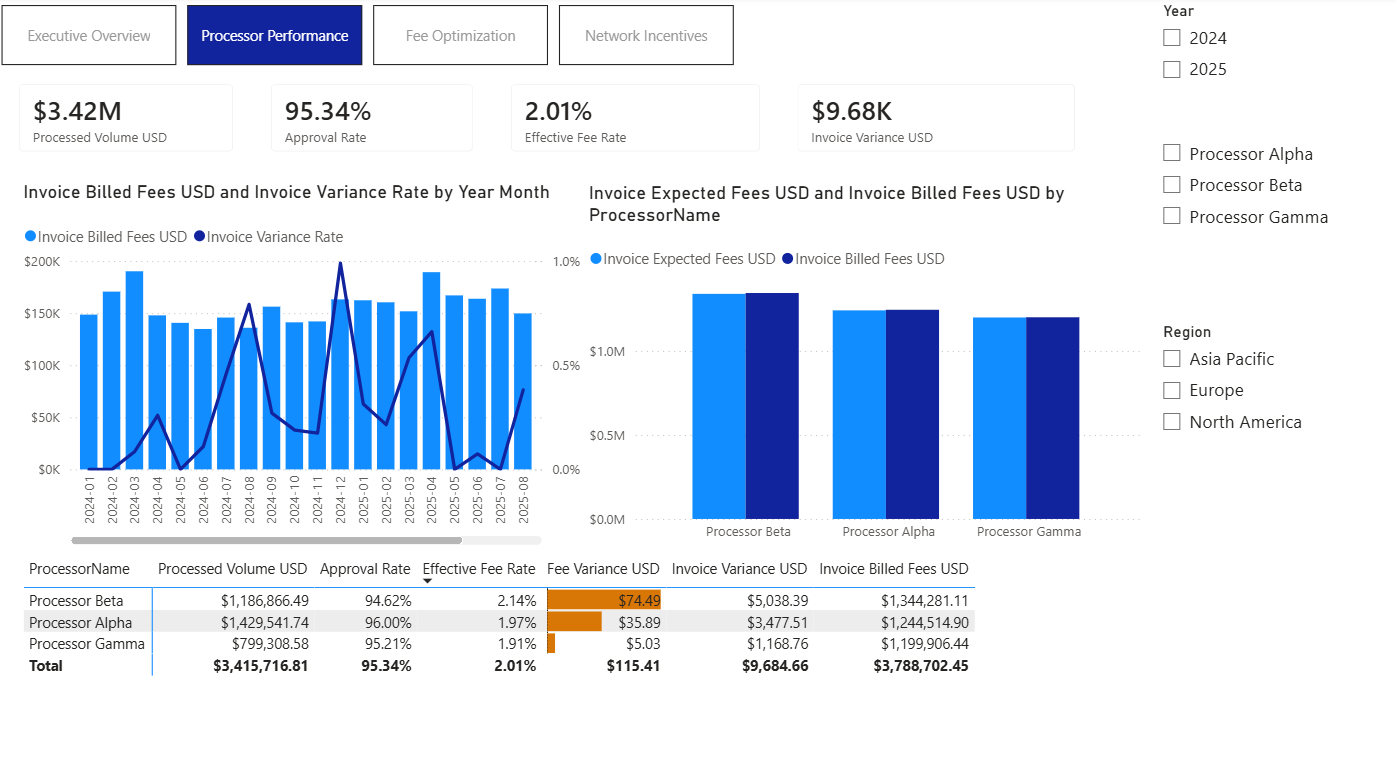

Layout of this report page (visuals, bound fields, positions):
{"tool":"powerbi","page":{"name":"Processor Performance","canvas":[1280,720],"ordinal":1},"visuals":[{"type":"slicer","fields":{"Values":["DimProcessor.ProcessorName"]},"box":[1051.4,105.1,228.6,189],"z":0},{"type":"slicer","fields":{"Values":["DimMarket.Region"]},"box":[1051.4,294.1,228.6,187.4],"z":1000},{"type":"cardVisual","fields":{"Data":["AllMeasures.Processed Volume USD"]},"box":[0,63.1,230.6,96.1],"z":2000},{"type":"cardVisual","fields":{"Data":["AllMeasures.Approval Rate"]},"box":[230.6,63.1,219.6,96.1],"z":3000},{"type":"cardVisual","fields":{"Data":["AllMeasures.Effective Fee Rate"]},"box":[450.1,63.1,262.1,96.1],"z":4000},{"type":"cardVisual","fields":{"Data":["AllMeasures.Invoice Variance USD"]},"box":[711.6,62.5,288,96],"z":5000},{"type":"lineStackedColumnComboChart","fields":{"Category":["DimDate.Year Month"],"Y":["AllMeasures.Invoice Billed Fees USD"],"Y2":["AllMeasures.Invoice Variance Rate"]},"box":[16.8,169.1,519.6,338.3],"z":6000},{"type":"clusteredColumnChart","fields":{"Category":["DimProcessor.ProcessorName"],"Y":["AllMeasures.Invoice Expected Fees USD","AllMeasures.Invoice Billed Fees USD"]},"box":[534.3,169.7,515,338.3],"z":7000},{"type":"pivotTable","fields":{"Rows":["DimProcessor.ProcessorName"],"Values":["AllMeasures.Processed Volume USD","AllMeasures.Approval Rate","AllMeasures.Effective Fee Rate","AllMeasures.Fee Variance USD","AllMeasures.Invoice Variance USD","AllMeasures.Invoice Billed Fees USD"]},"box":[16.8,507.4,1034.7,213.3],"z":8000},{"type":"slicer","fields":{"Values":["DimDate.Year"]},"box":[1051.4,0,213.3,126.5],"z":9000},{"type":"pageNavigator","box":[1.9,7.7,672.1,55.8],"z":10000}]}

Visuals, with their boxes in screenshot pixels (x1, y1, x2, y2), scaled from the page's 1280x720 canvas onto the 1396x778 screenshot:
slicer - DimProcessor.ProcessorName: x1=1147, y1=114, x2=1395, y2=318
slicer - DimMarket.Region: x1=1147, y1=318, x2=1395, y2=520
cardVisual - AllMeasures.Processed Volume USD: x1=0, y1=68, x2=251, y2=172
cardVisual - AllMeasures.Approval Rate: x1=251, y1=68, x2=491, y2=172
cardVisual - AllMeasures.Effective Fee Rate: x1=491, y1=68, x2=777, y2=172
cardVisual - AllMeasures.Invoice Variance USD: x1=776, y1=68, x2=1090, y2=171
lineStackedColumnComboChart - DimDate.Year Month x AllMeasures.Invoice Billed Fees USD: x1=18, y1=183, x2=585, y2=548
clusteredColumnChart - DimProcessor.ProcessorName x AllMeasures.Invoice Expected Fees USD: x1=583, y1=183, x2=1144, y2=549
pivotTable - DimProcessor.ProcessorName x AllMeasures.Processed Volume USD: x1=18, y1=548, x2=1147, y2=777
slicer - DimDate.Year: x1=1147, y1=0, x2=1379, y2=137
pageNavigator: x1=2, y1=8, x2=735, y2=69
